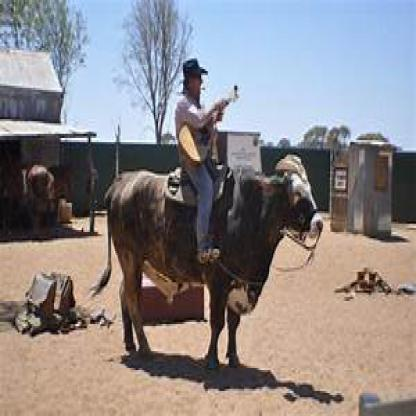cow: (107, 169, 324, 368)
